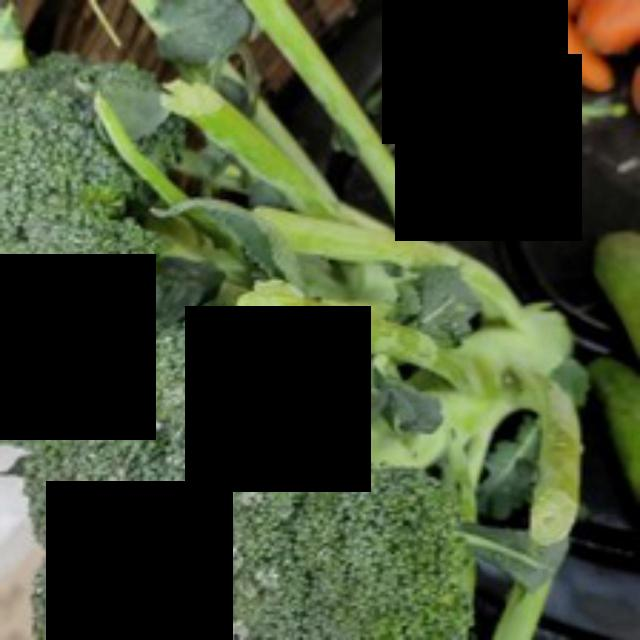broccoli: (8, 311, 494, 637)
